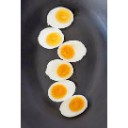begg: (47, 7, 74, 29), (48, 83, 75, 99), (47, 64, 74, 79), (61, 44, 85, 60), (62, 102, 87, 114)
